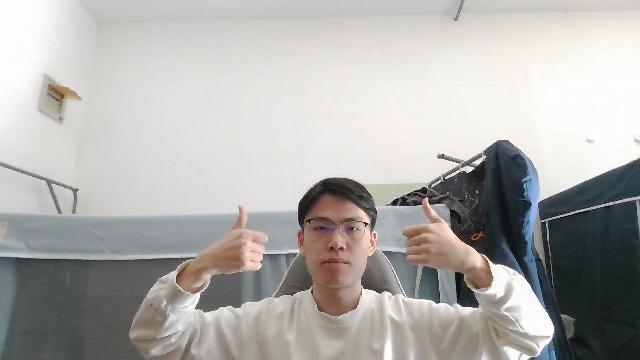good: (396, 195, 475, 274), (193, 205, 272, 278)
